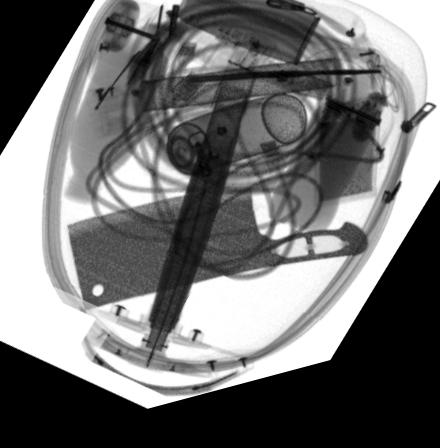Knife: (66, 196, 366, 315)
Powerbank: (313, 117, 382, 226)
Scissors: (183, 84, 382, 94)
Sprayer: (149, 105, 307, 196)
